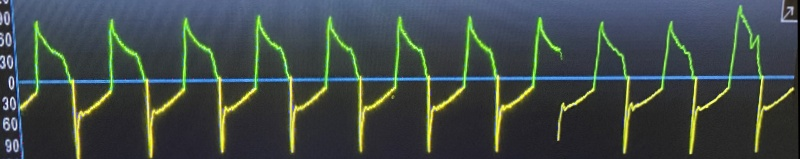peepi: (20, 4, 781, 157)
